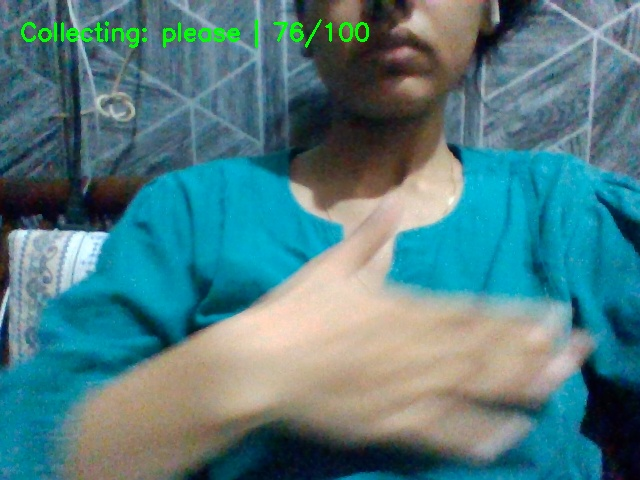please: (227, 199, 588, 480)
